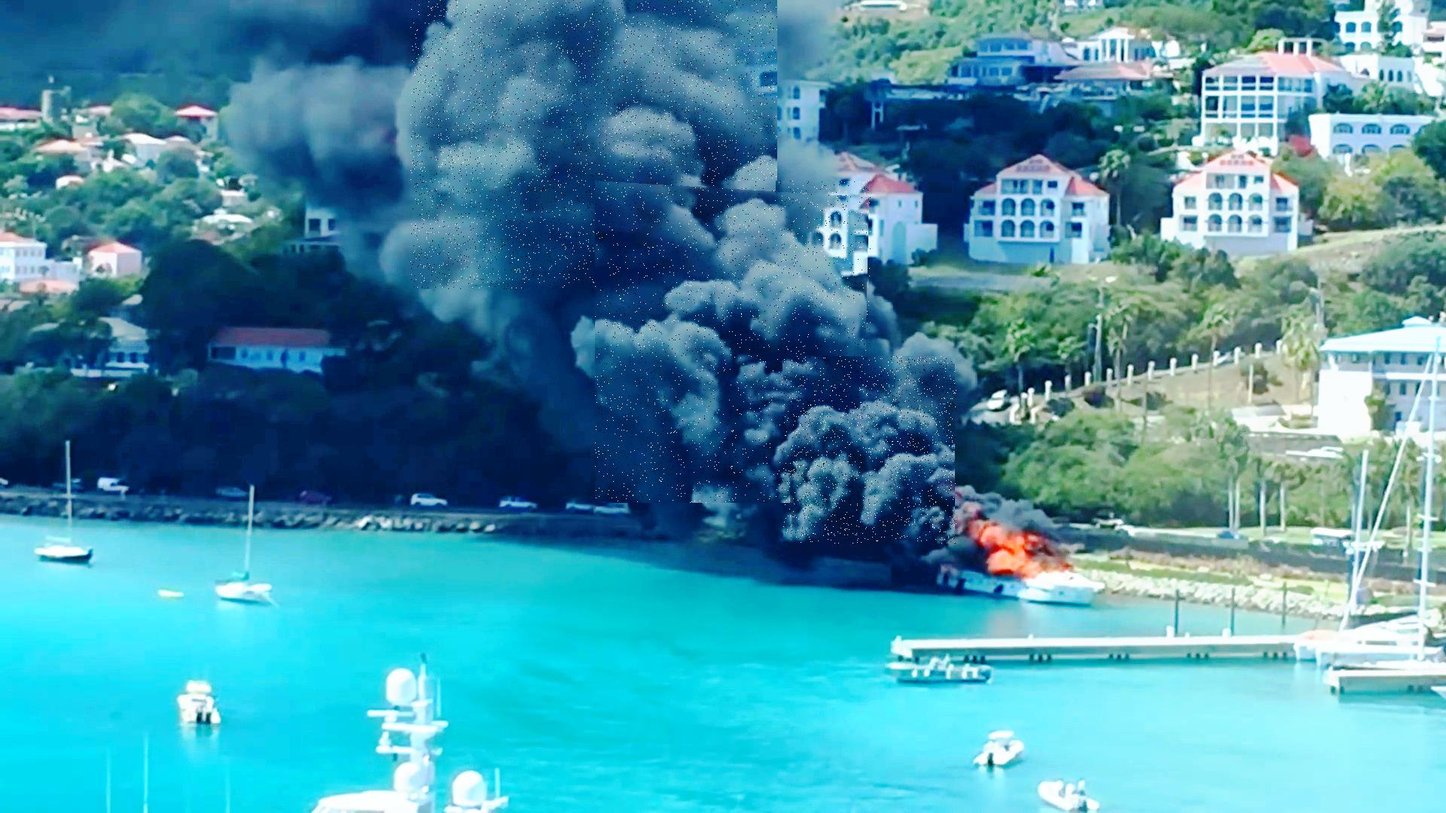smoke: (410, 0, 777, 289), (595, 181, 871, 503), (784, 356, 957, 544)
